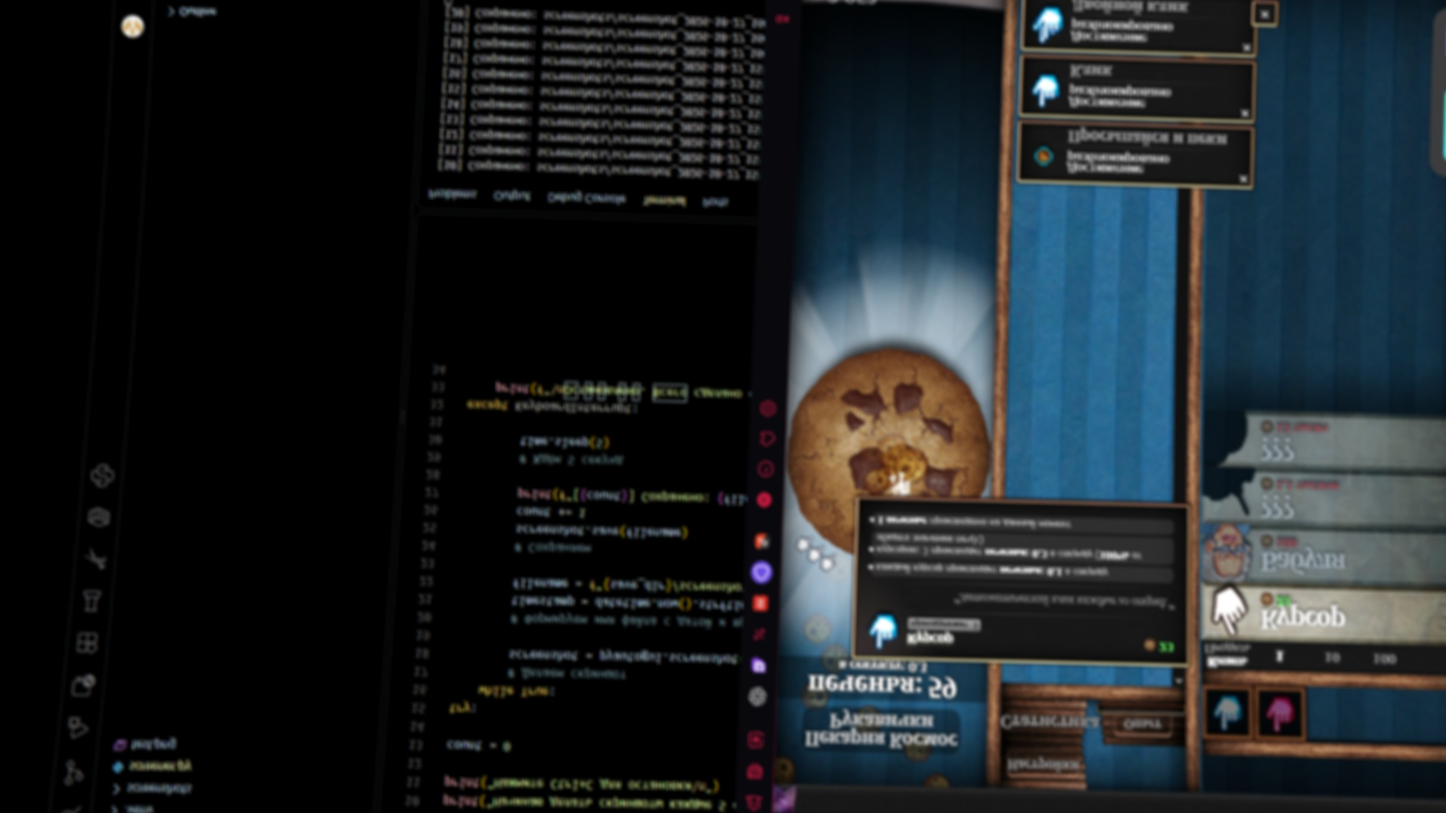game: (796, 345, 998, 504)
pokypki: (1193, 402, 1446, 752)
